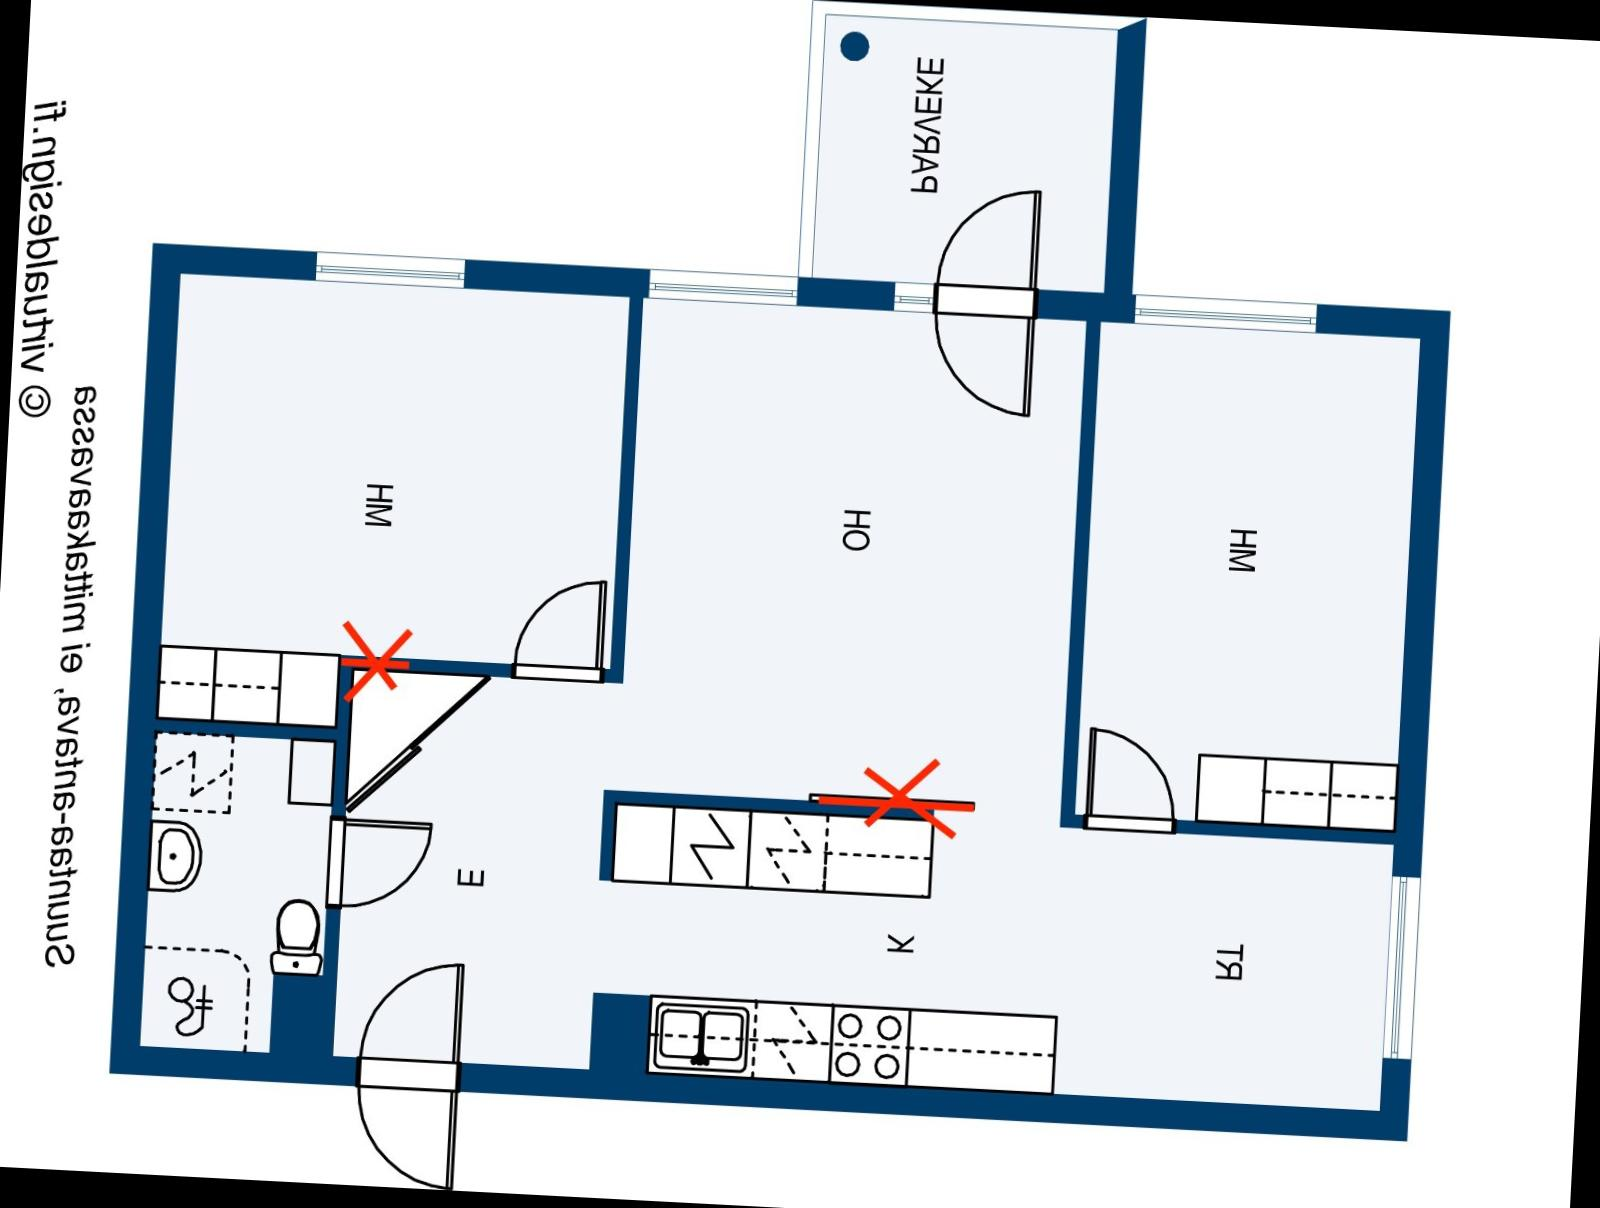door: (930, 179, 1053, 318), (362, 955, 472, 1095), (928, 292, 1038, 423), (345, 1062, 458, 1185), (506, 571, 612, 689), (313, 817, 431, 917), (1081, 722, 1183, 836)
window: (1377, 859, 1427, 1076), (1125, 288, 1335, 339), (302, 244, 475, 298), (634, 261, 810, 310), (882, 278, 938, 318)
